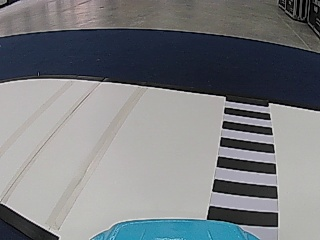CrossWalk: (204, 96, 279, 224)
